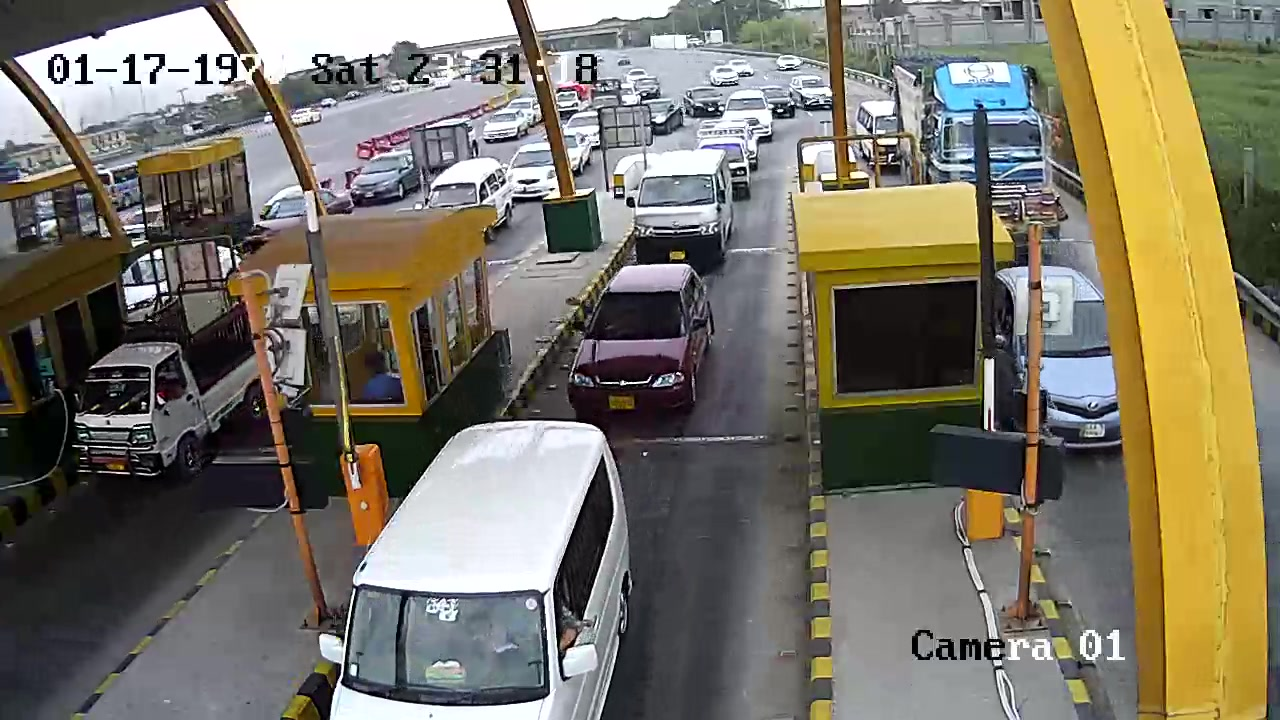F1: (565, 257, 727, 416)
